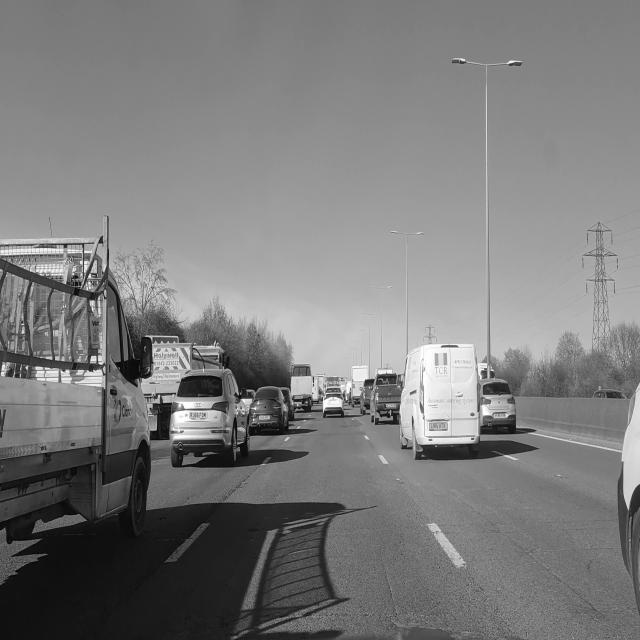car: (400, 344, 480, 459), (170, 370, 249, 466), (618, 385, 639, 612), (480, 379, 516, 433), (249, 387, 288, 433), (370, 373, 401, 424), (323, 387, 344, 417), (281, 388, 294, 421), (361, 379, 373, 414), (241, 389, 255, 411)
